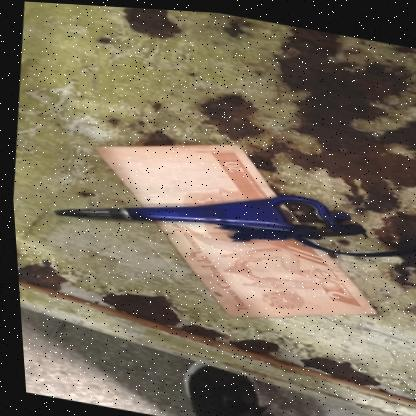twenty-back-vef: (72, 116, 393, 341)
